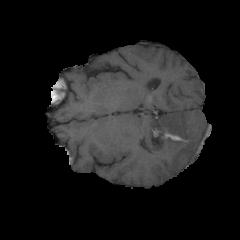glioma: (137, 109, 210, 165)
